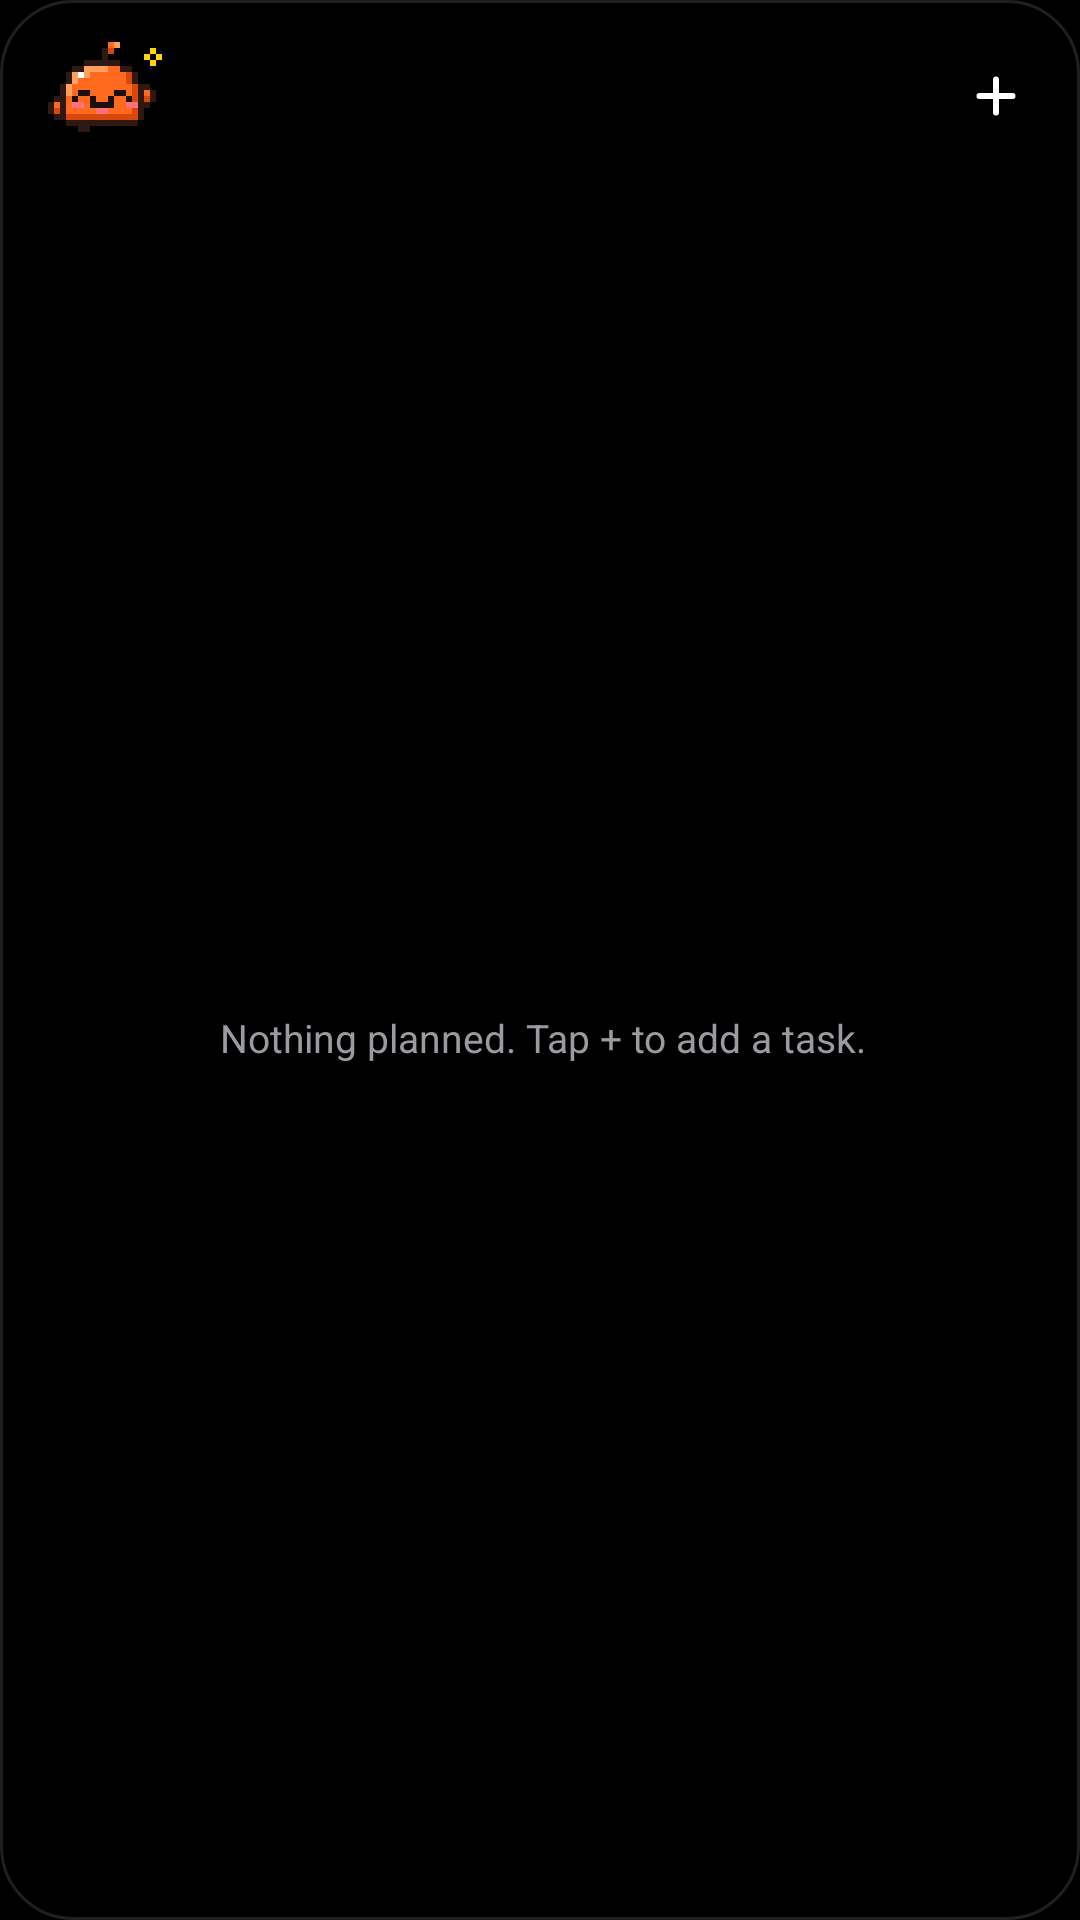

Named icons in this screenshot (1080×1920) and their bounding boxes, (x1, y1, x2, y2):
New task: (976, 76, 1016, 116)
Patch pet: (48, 42, 162, 132)
